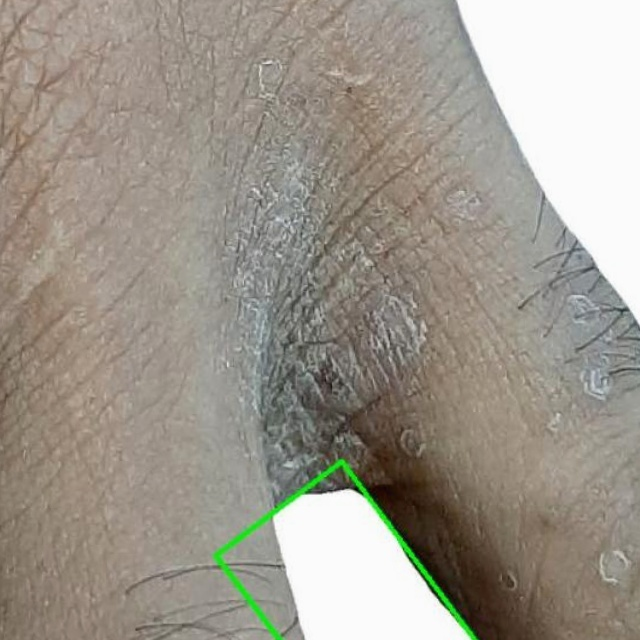Scabies: (216, 462, 475, 639)
